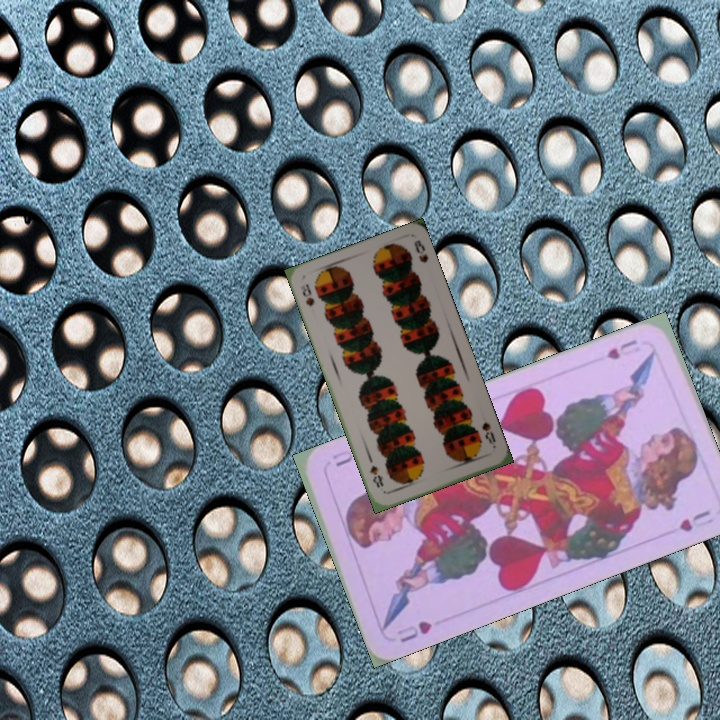HU: (393, 616, 435, 645), (602, 335, 640, 362)
S8: (478, 418, 499, 451), (298, 280, 317, 309)
